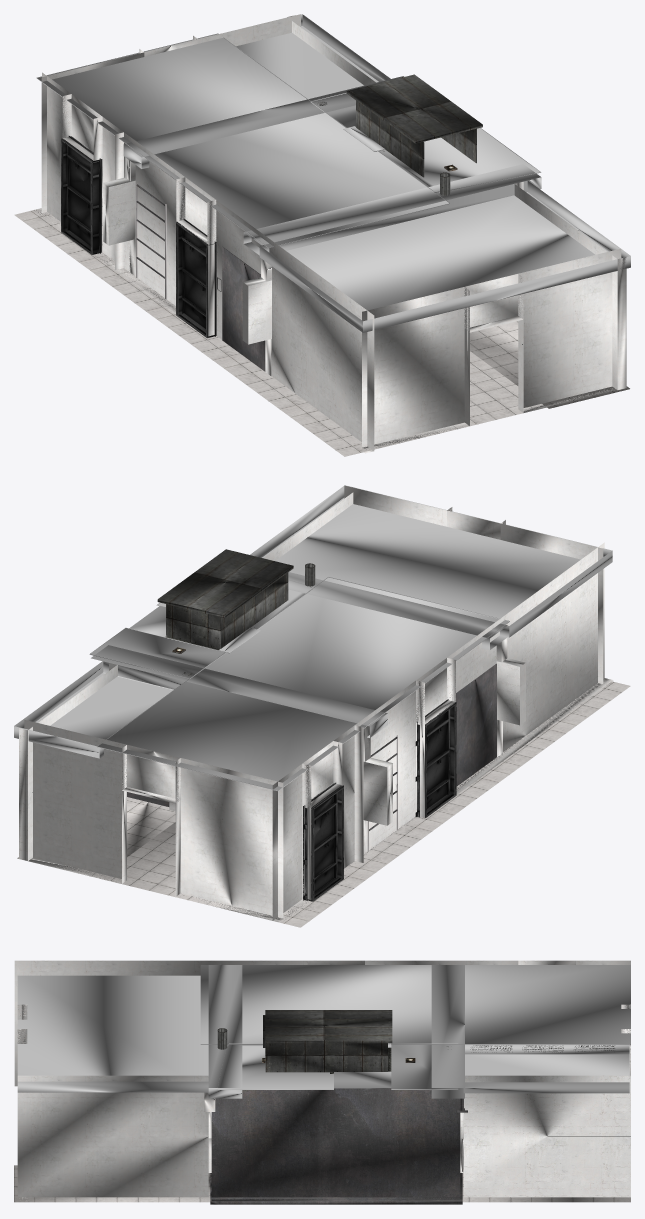
Rendered from room2gw_opt.obj.
The picture shows the model from 3 angles, top to bottom: view 1: azimuth 30°, elevation 25°; view 2: azimuth 150°, elevation 25°; view 3: azimuth 270°, elevation 25°; orthographic projection. The views are drawn at different scales.
Size of the model in its own units: 54.4 by 29.65 by 103.
